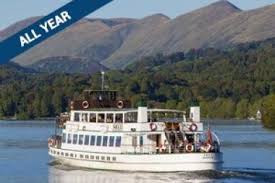boat: (46, 70, 225, 174)
